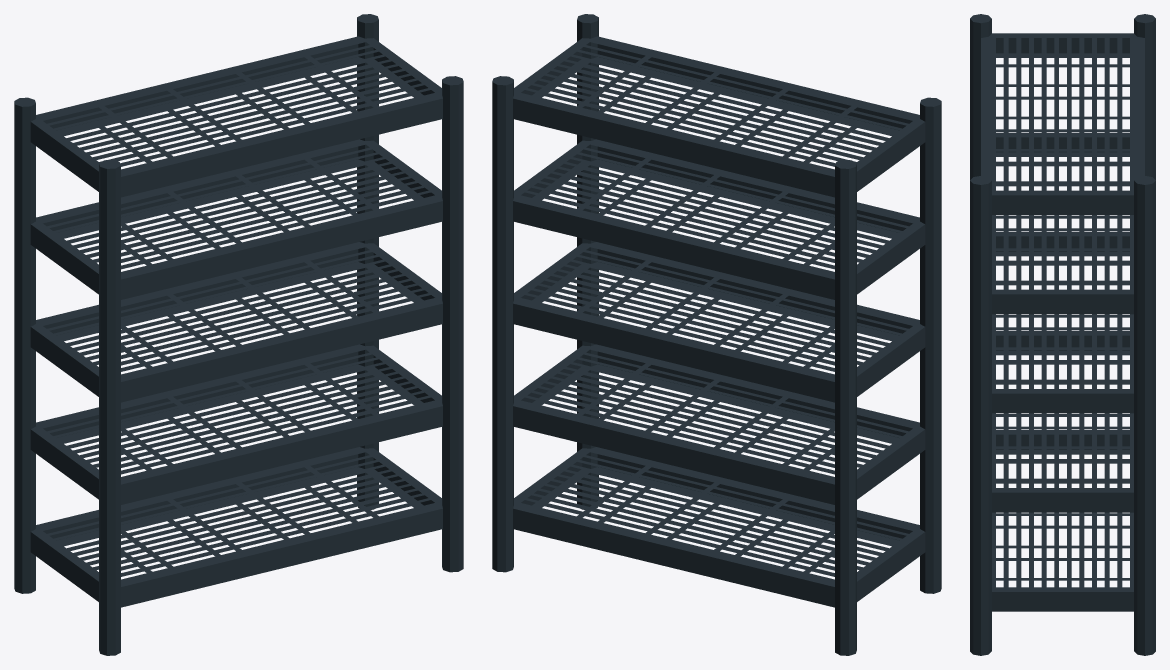
File: StorageShelves.fbx_Shelf.fbx
The picture shows the model from 3 angles, left to right: view 1: azimuth 30°, elevation 25°; view 2: azimuth 150°, elevation 25°; view 3: azimuth 270°, elevation 25°; orthographic projection. The views are drawn at different scales.
Parts seen in each view (by area): view 1: Cube.015; view 2: Cube.015; view 3: Cube.015.
Boxes of the visible parts, x1,y1,x2,y2 form: Cube.015: (14,14,463,655); Cube.015: (492,14,941,655); Cube.015: (970,14,1155,655).
Bounding box in the file's own units: 340 × 740 × 950.
